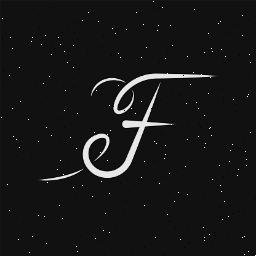f: (116, 70, 194, 196)
